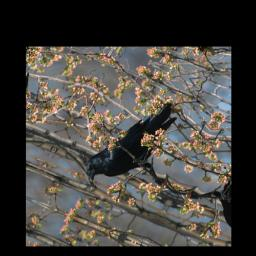Crow: (75, 87, 200, 208)
